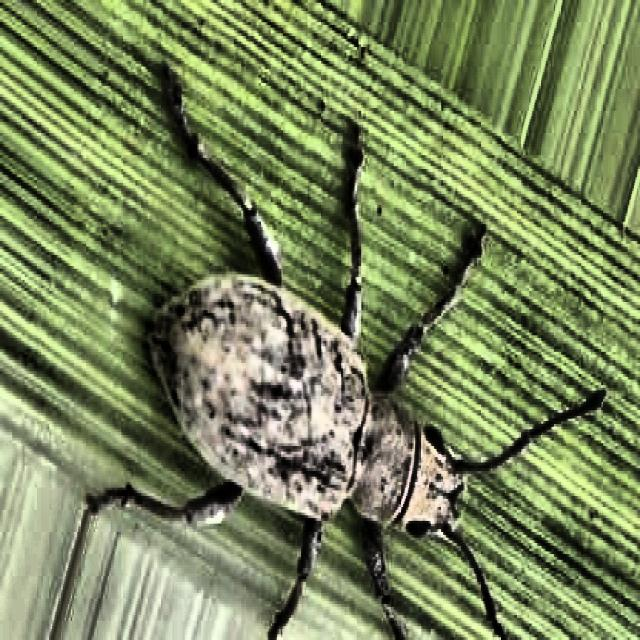Stink bug: (16, 144, 543, 640)
